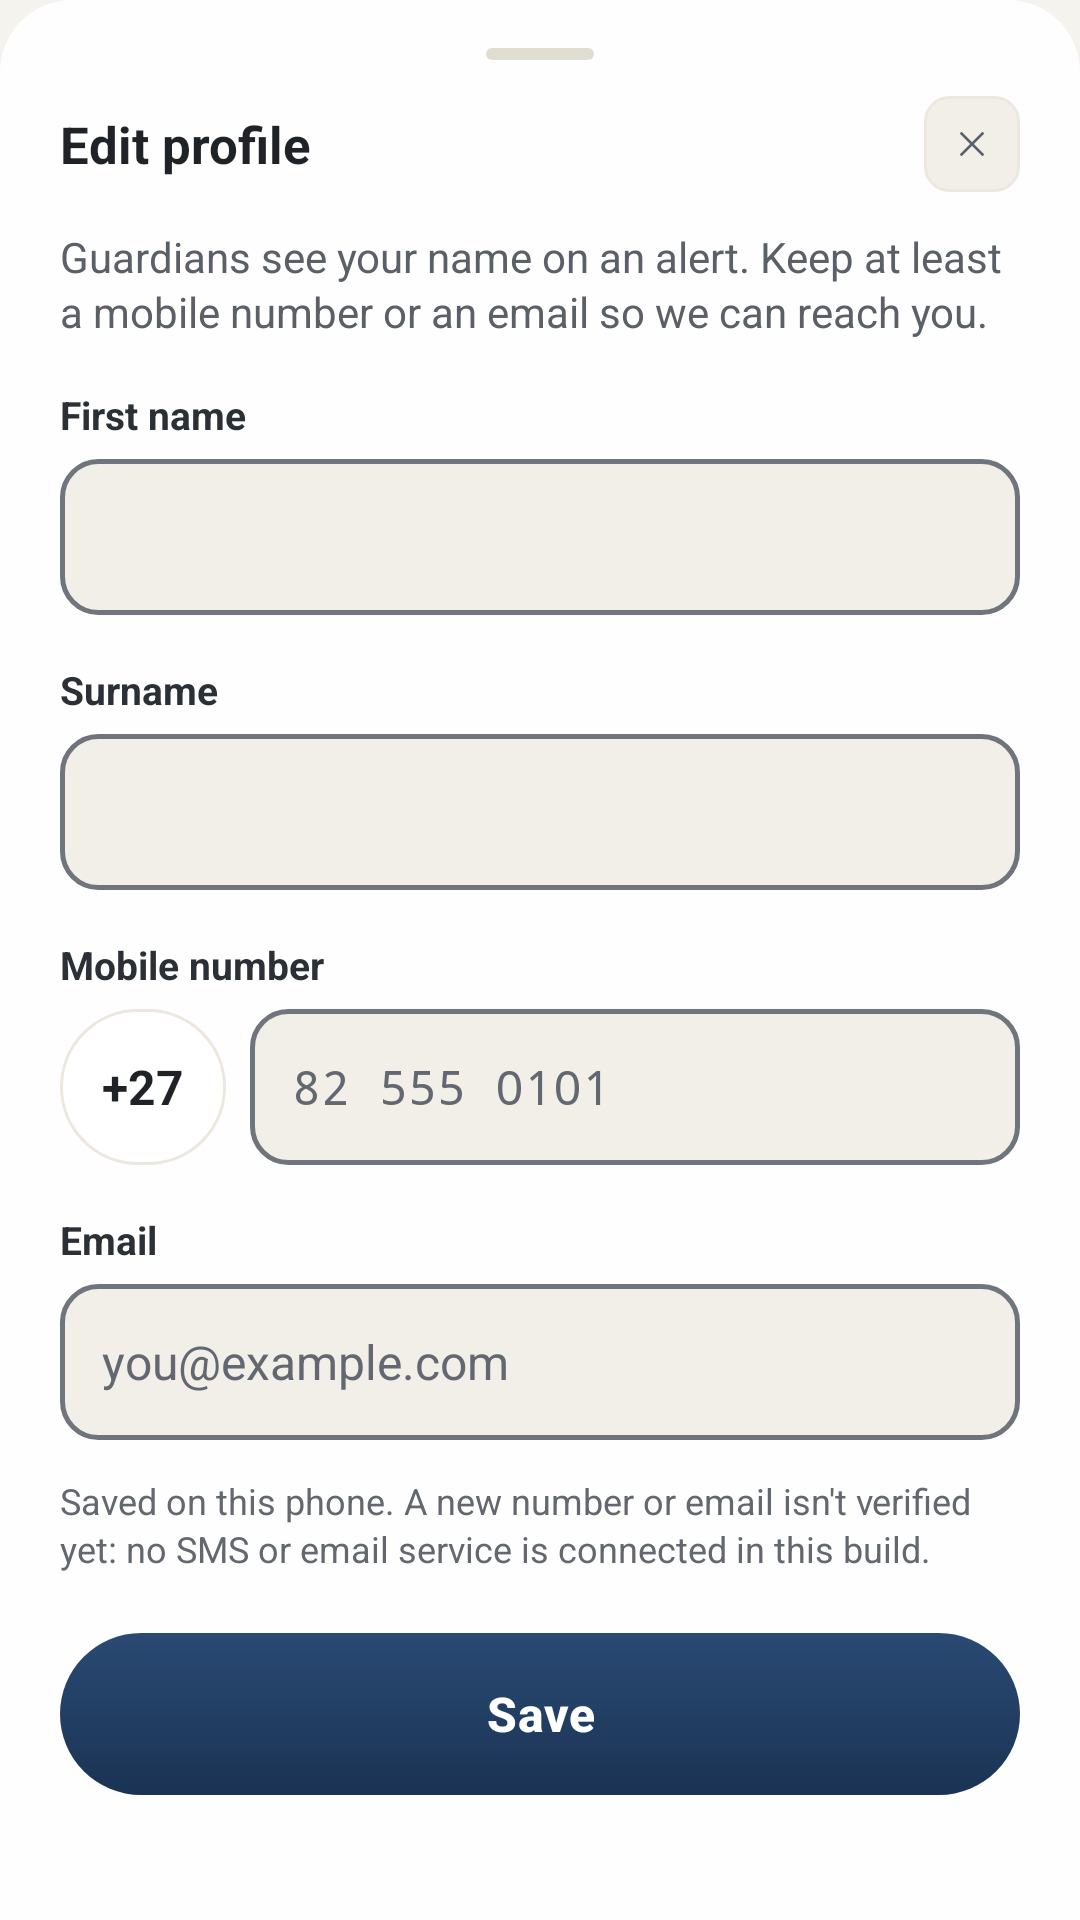

Icon click points for this 1080 × 1920 phone screenshot, format point (x, y):
Close: point (972, 144)
